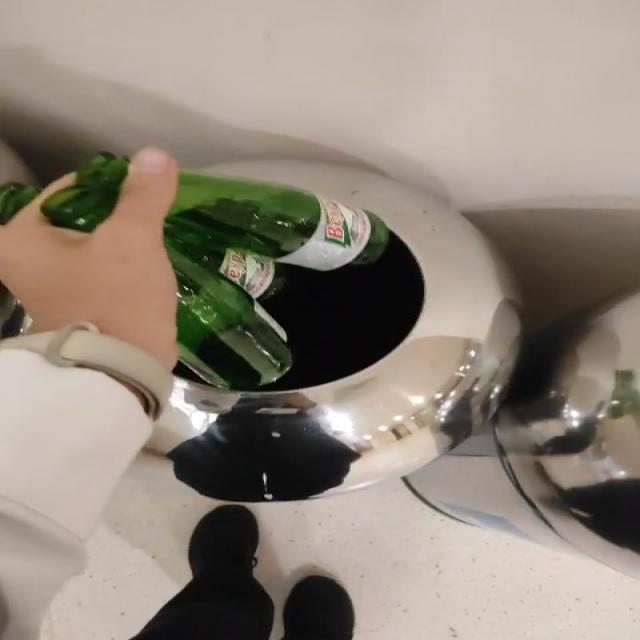bin: (148, 161, 520, 504)
glass: (164, 171, 389, 390), (40, 152, 128, 232)
